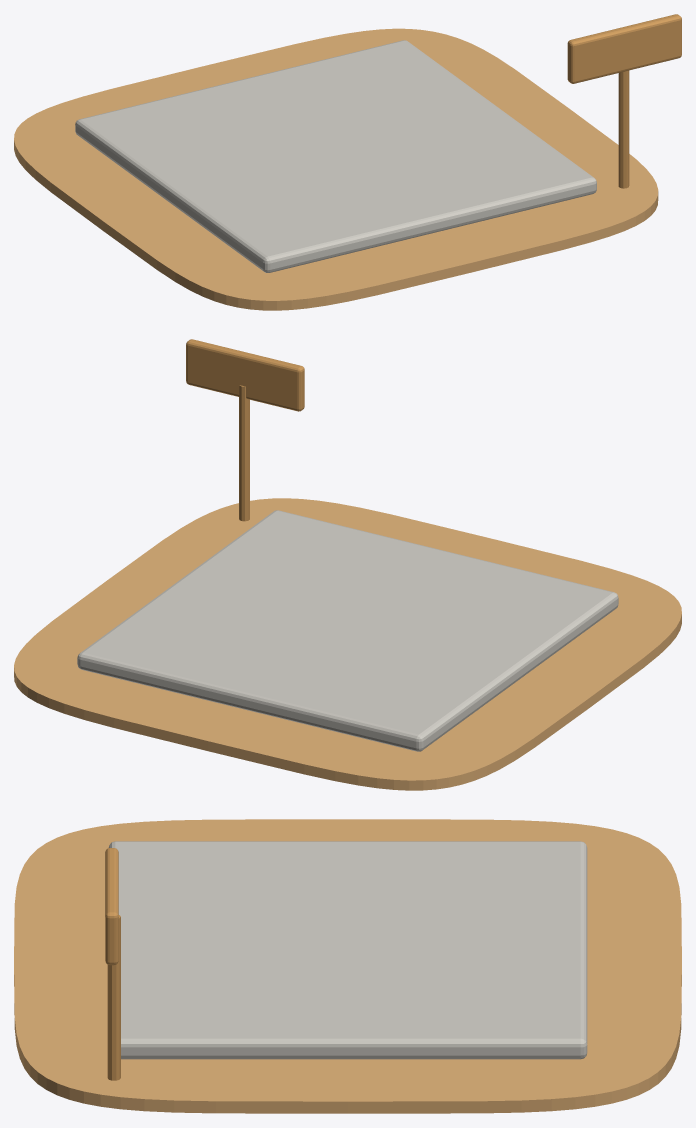
The model's file is clock-tower-stage-0.503944c4.glb.
The picture shows the model from 3 angles, top to bottom: view 1: azimuth 30°, elevation 25°; view 2: azimuth 150°, elevation 25°; view 3: azimuth 270°, elevation 25°; orthographic projection. The views are drawn at different scales.
Parts seen in each view (by area): view 1: ClockTower_Stage0__T_concrete, ClockTower_Stage0__T_dirt, ClockTower_Stage0__T_wood; view 2: ClockTower_Stage0__T_concrete, ClockTower_Stage0__T_dirt, ClockTower_Stage0__T_wood; view 3: ClockTower_Stage0__T_concrete, ClockTower_Stage0__T_dirt, ClockTower_Stage0__T_wood.
Boxes of the visible parts, x1,y1,x2,y2 form: ClockTower_Stage0__T_concrete: [75, 40, 596, 272]; ClockTower_Stage0__T_dirt: [14, 28, 658, 310]; ClockTower_Stage0__T_wood: [567, 14, 681, 188]; ClockTower_Stage0__T_concrete: [77, 510, 618, 751]; ClockTower_Stage0__T_dirt: [14, 498, 681, 790]; ClockTower_Stage0__T_wood: [186, 339, 304, 521]; ClockTower_Stage0__T_concrete: [108, 841, 587, 1059]; ClockTower_Stage0__T_dirt: [14, 819, 681, 1113]; ClockTower_Stage0__T_wood: [105, 848, 120, 1080].
Bounding box in the file's own units: 4.98 × 1.66 × 4.8.
